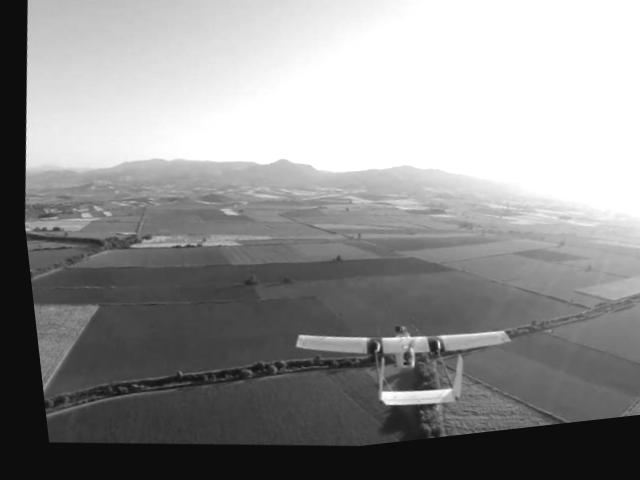hedef: (270, 300, 515, 443)
